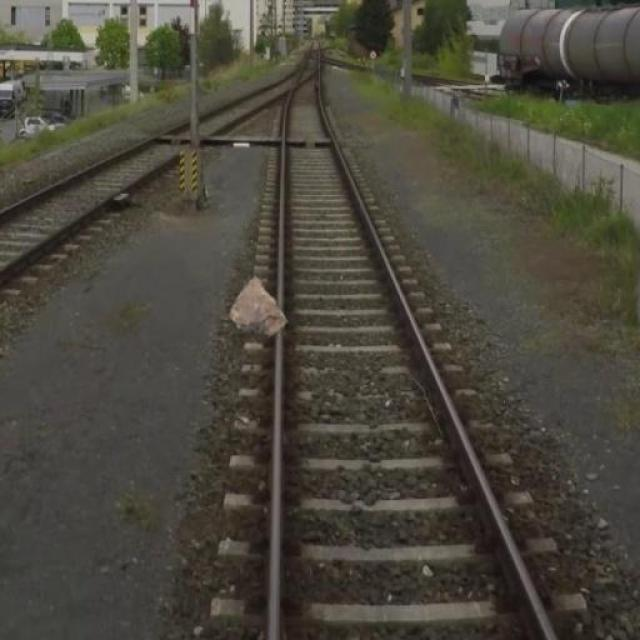Stone: (226, 277, 293, 340)
